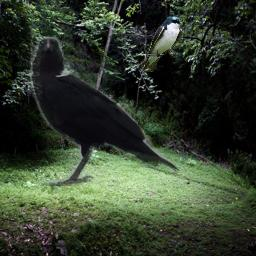Crow: (29, 36, 180, 186)
Swallow: (140, 16, 183, 72)
